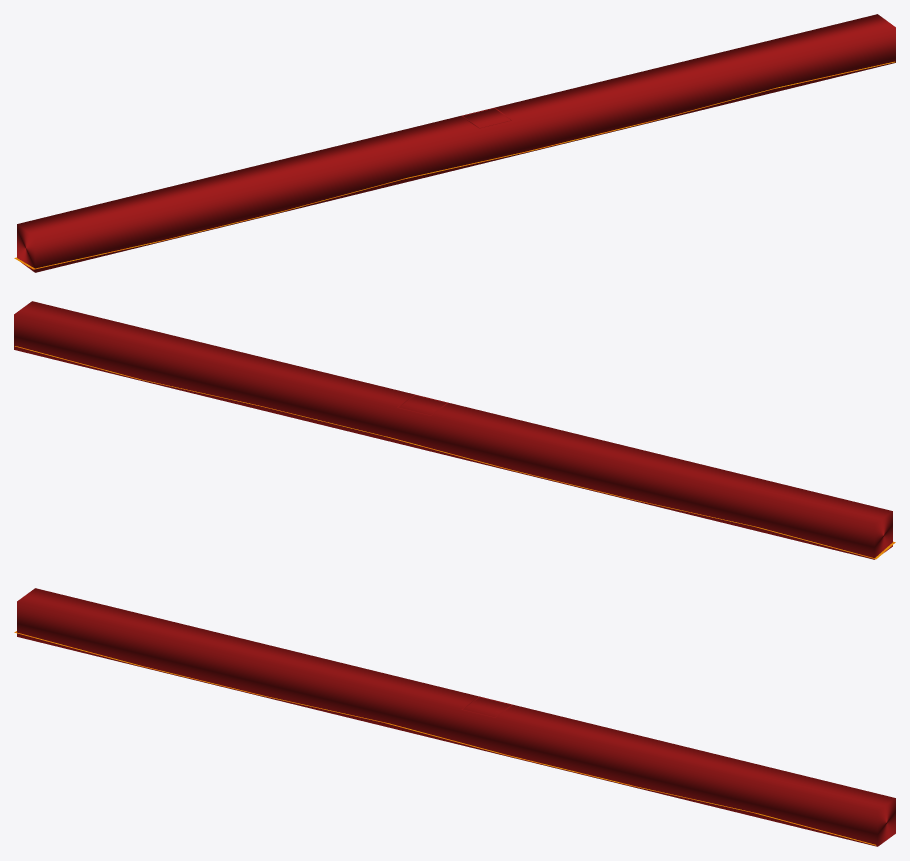
File: LVL3_BossTunnel.fbx
The picture shows the model from 3 angles, top to bottom: view 1: azimuth 30°, elevation 25°; view 2: azimuth 150°, elevation 25°; view 3: azimuth 330°, elevation 25°; orthographic projection.
Parts seen in each view (by area): view 1: BTunnel, Boss Lava, BTunnel_Roof; view 2: BTunnel, Boss Lava, BTunnel_Roof; view 3: BTunnel, Boss Lava, BTunnel_Roof.
Part boxes in pixels (bbox=[...]): BTunnel: bbox=[17, 14, 895, 272]; Boss Lava: bbox=[14, 61, 895, 269]; BTunnel_Roof: bbox=[463, 108, 510, 127]; BTunnel: bbox=[14, 301, 892, 559]; Boss Lava: bbox=[15, 346, 895, 559]; BTunnel_Roof: bbox=[399, 395, 446, 414]; BTunnel: bbox=[17, 588, 895, 846]; Boss Lava: bbox=[14, 631, 876, 845]; BTunnel_Roof: bbox=[463, 697, 510, 716].
Bounding box in the file's own units: 187698 × 7366 × 7400.
